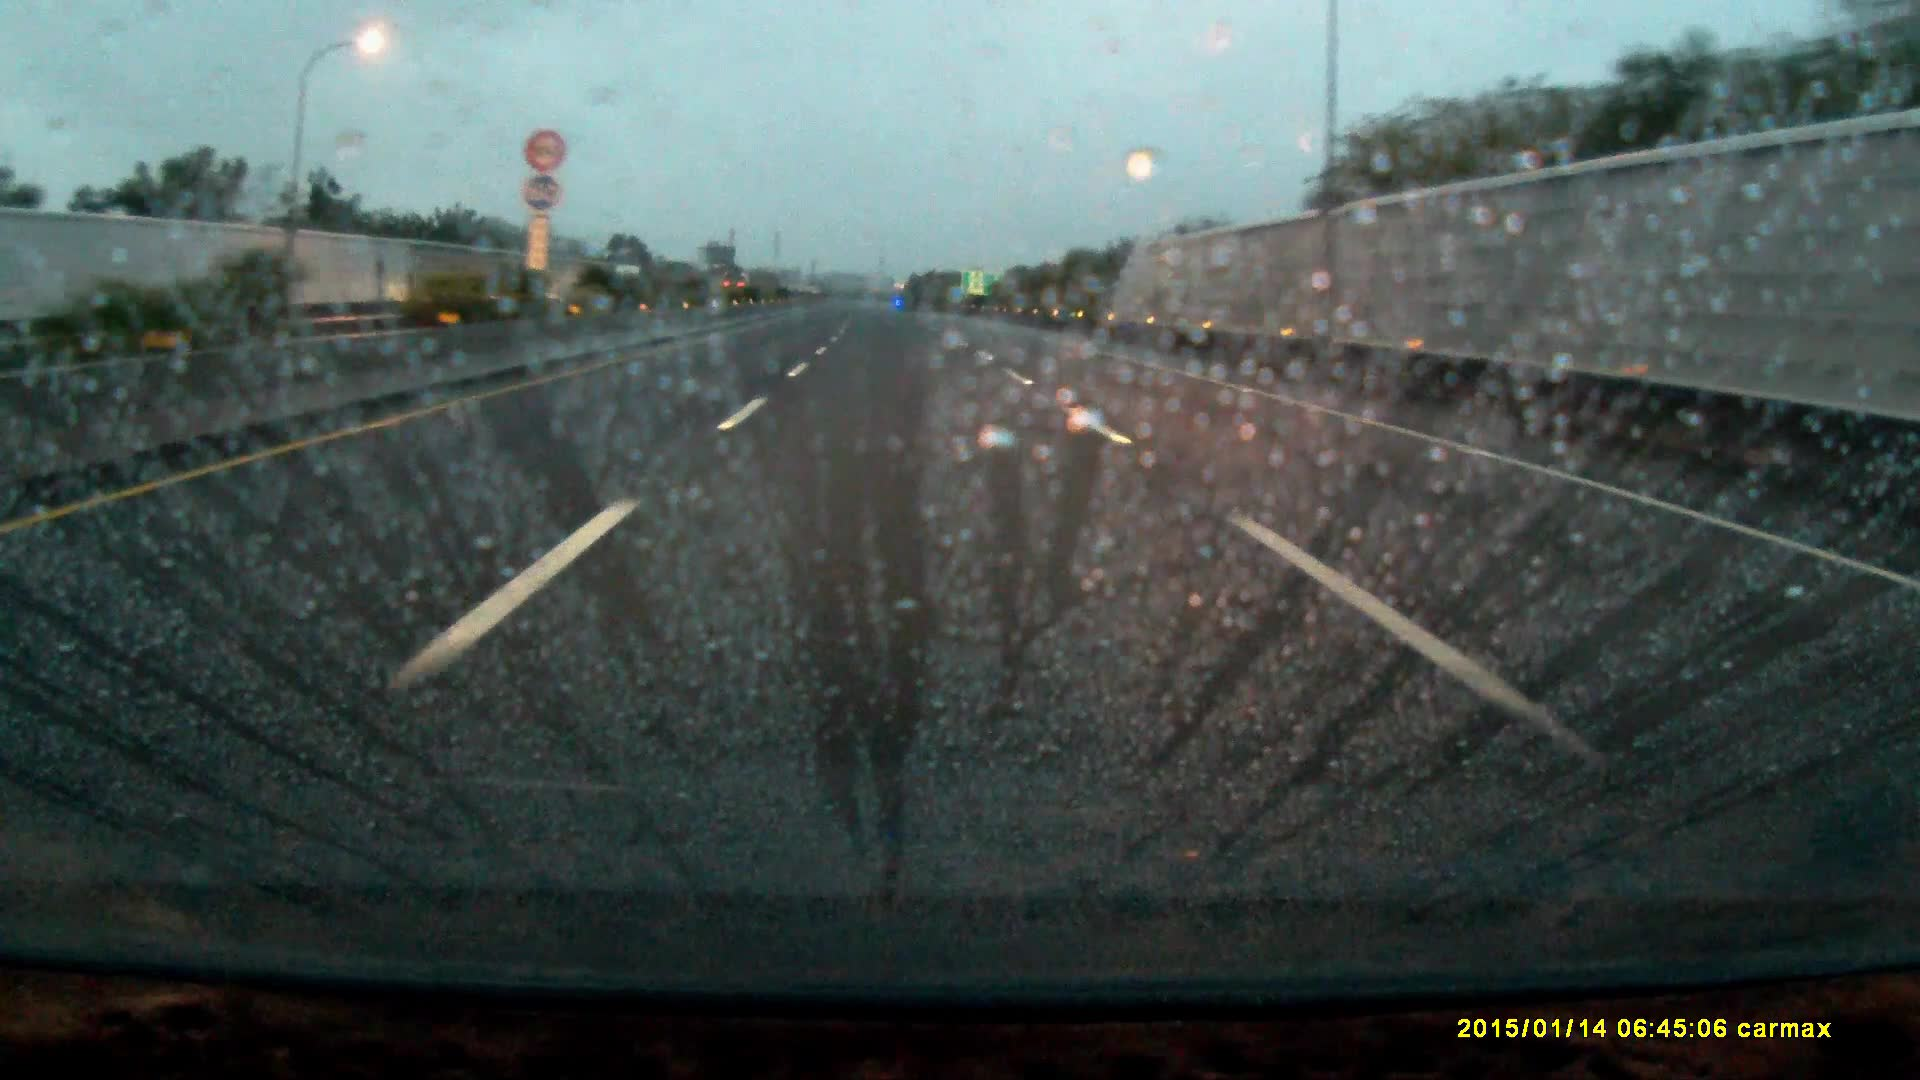vehicle: (613, 266, 650, 302), (723, 281, 756, 309)
